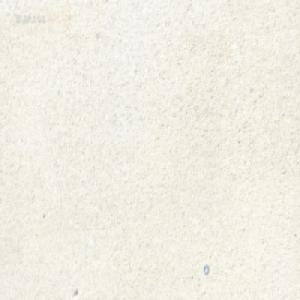Washer: (202, 263, 209, 274)
